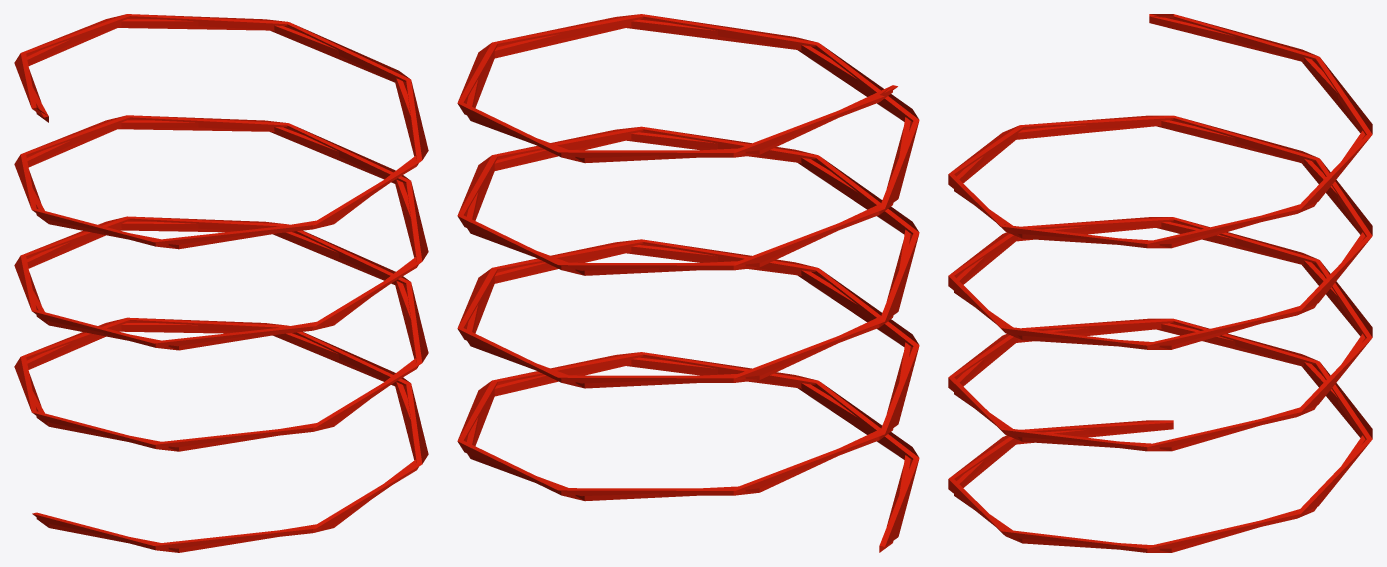
File: selected_piece.glb
The picture shows the model from 3 angles, left to right: view 1: azimuth 30°, elevation 25°; view 2: azimuth 150°, elevation 25°; view 3: azimuth 270°, elevation 25°; orthographic projection. The views are drawn at different scales.
Visible parts, largest first — view 1: Plane; view 2: Plane; view 3: Plane.
Boxes of the visible parts, x1=… form: Plane: x1=14, y1=14, x2=428, y2=552; Plane: x1=457, y1=14, x2=919, y2=552; Plane: x1=948, y1=14, x2=1372, y2=552.
Bounding box in the file's own units: 1.89 × 2.03 × 1.89.
